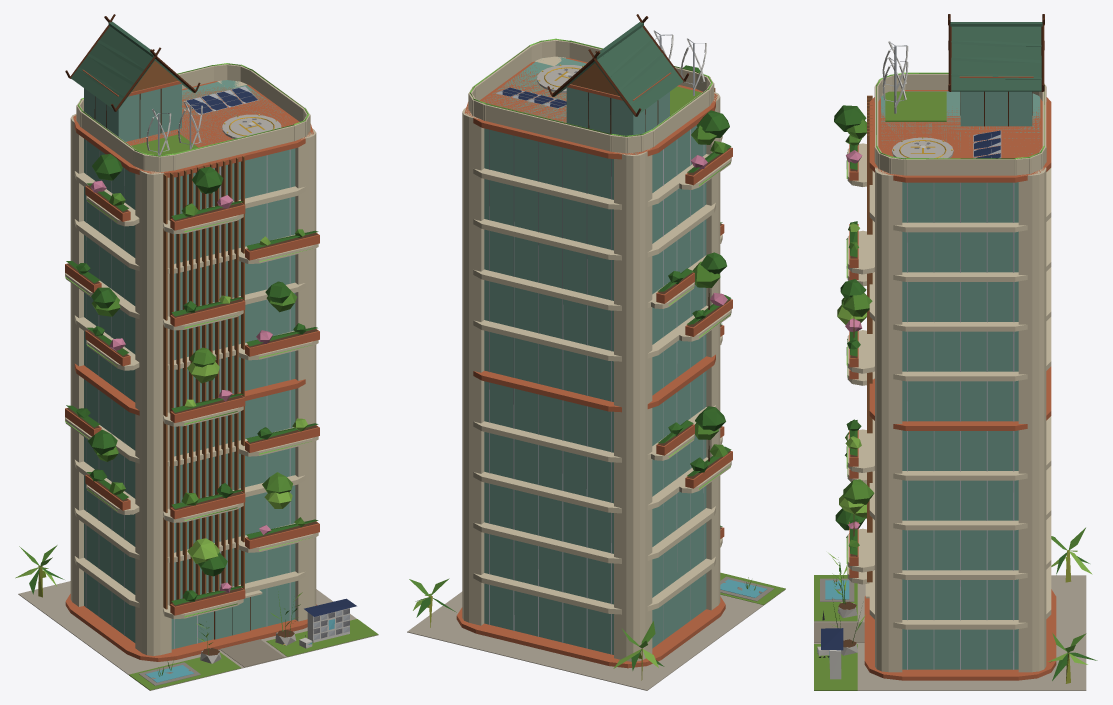
The model's file is home_4.glb.
The picture shows the model from 3 angles, left to right: view 1: azimuth 30°, elevation 25°; view 2: azimuth 150°, elevation 25°; view 3: azimuth 270°, elevation 25°; orthographic projection. The views are drawn at different scales.
Visible parts, largest first — view 1: body, windows; view 2: body, windows; view 3: body, windows.
Part boxes in pixels (<box>): body: <box>15,14,378,690</box>; windows: <box>65,63,334,644</box>; body: <box>407,14,785,690</box>; windows: <box>469,38,730,489</box>; body: <box>814,14,1097,690</box>; windows: <box>817,72,1044,659</box>.
Bounding box in the file's own units: 17.16 × 38.39 × 16.63.
